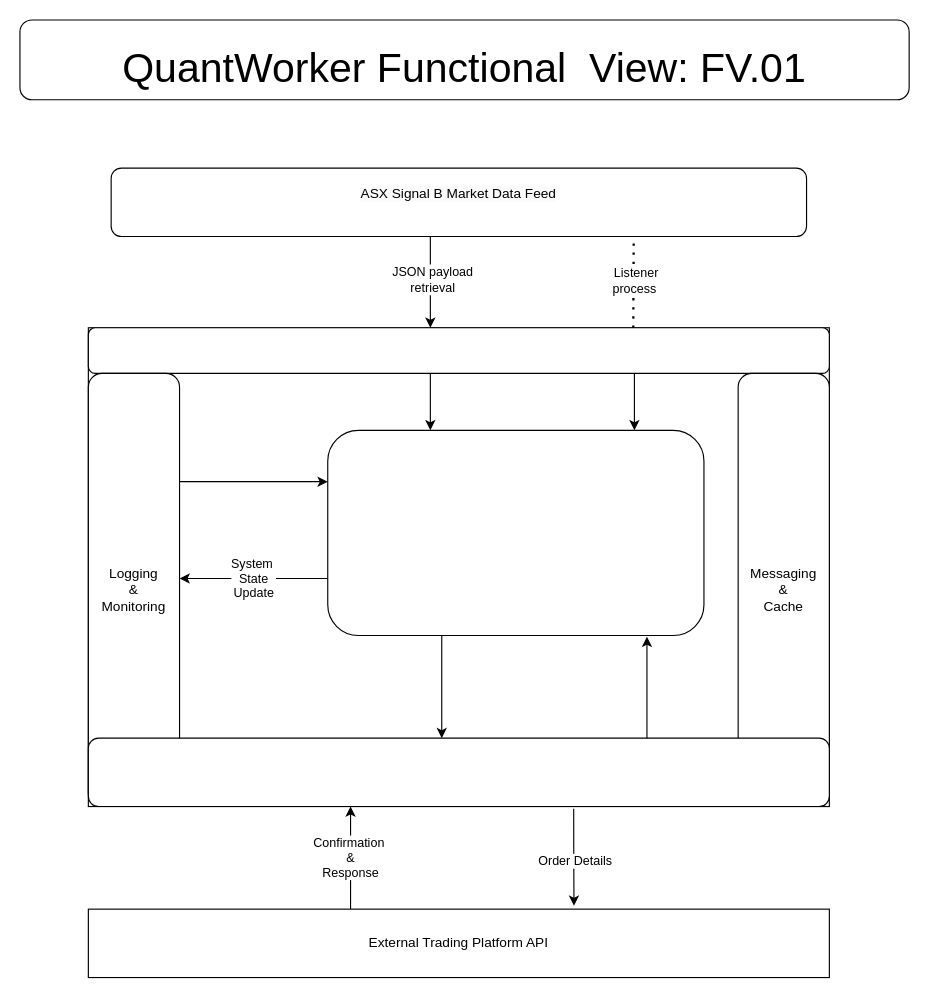
Image size: 929x998. Some labels were removed from this diagram. The shapes that lost their labels are listed below. From the top down, each one's centre as x and y in pixels, then its label:
At (x=458, y=350): "Retrieval Layer".
At (x=515, y=532): "Decision-Making Engine".
At (x=458, y=772): "Execution Layer".
